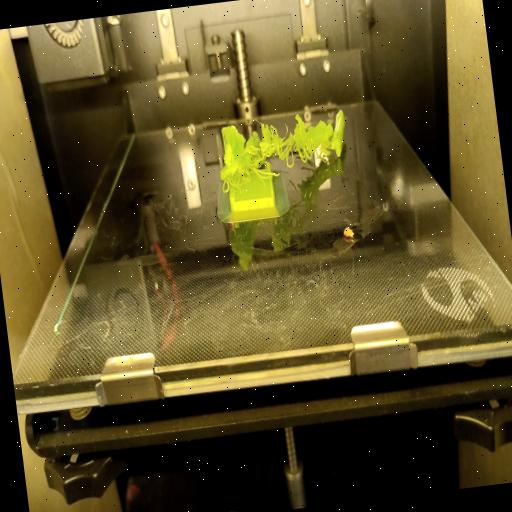spaghetti: (214, 106, 336, 188)
